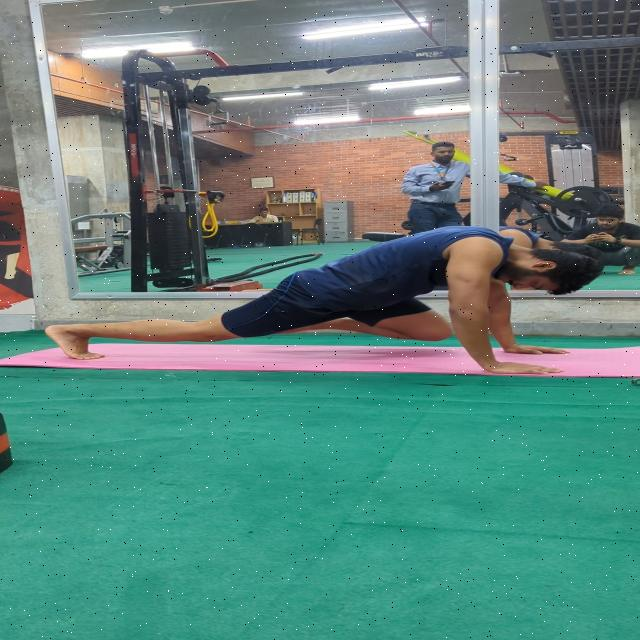Normal_MountainClimbers: (26, 216, 610, 370)
